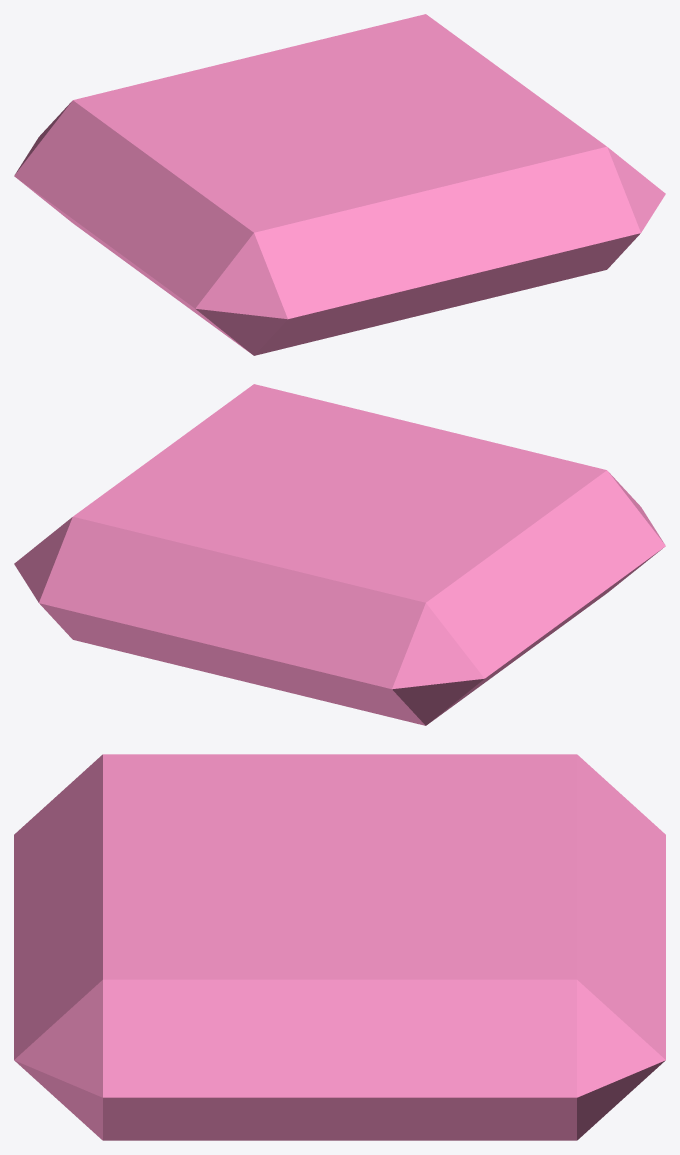
3 renders of one model, top to bottom at view 1: azimuth 30°, elevation 25°; view 2: azimuth 150°, elevation 25°; view 3: azimuth 270°, elevation 25°, orthographic. The views are drawn at different scales.
Visible parts, largest first — view 1: Meditation cushion; view 2: Meditation cushion; view 3: Meditation cushion.
Boxes of the visible parts, x1,y1,x2,y2 form: Meditation cushion: (14,14,665,355); Meditation cushion: (14,384,665,725); Meditation cushion: (14,754,665,1140).
Size of the model in its own units: 0.48 by 0.12 by 0.44.
1 material, 1 textured.
